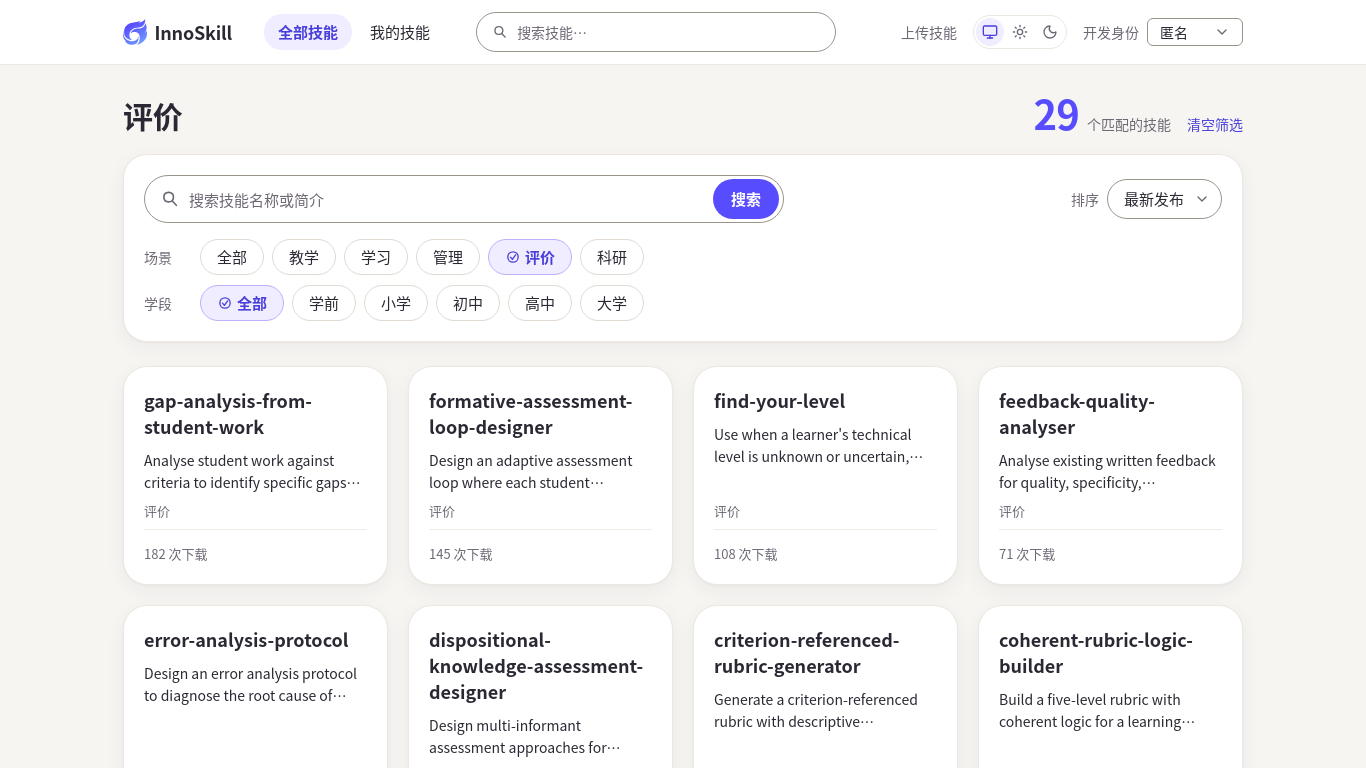
Test: 导航栏搜索 › 在列表页搜：保留场景、学段筛选，排序和页码复位
The image size is (1366, 768).
Type "rubric" into the field labelled "搜索技能".
click(669, 32); type("rubric")  # box [517, 13, 821, 51]
Then press Enter
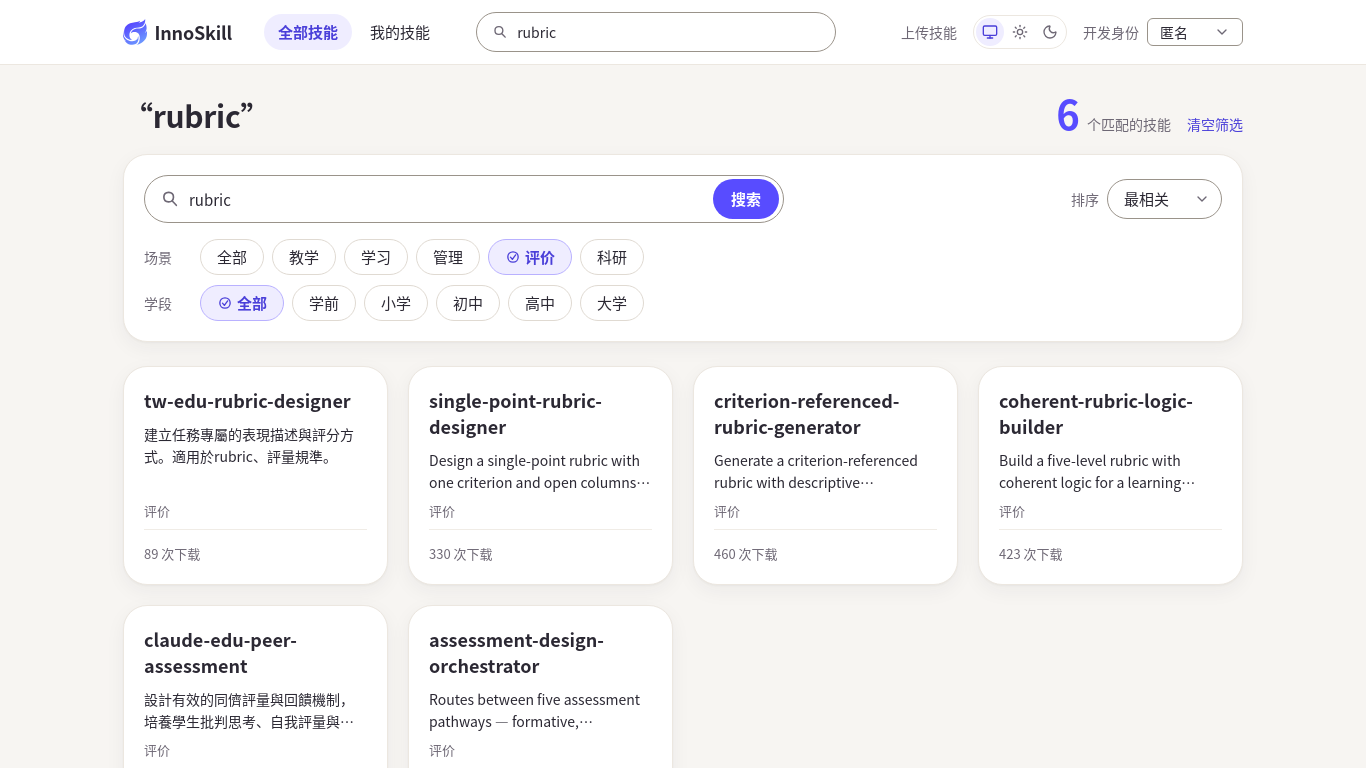
Expected: the field named "关键词" holds "rubric", [189, 179, 705, 219]
